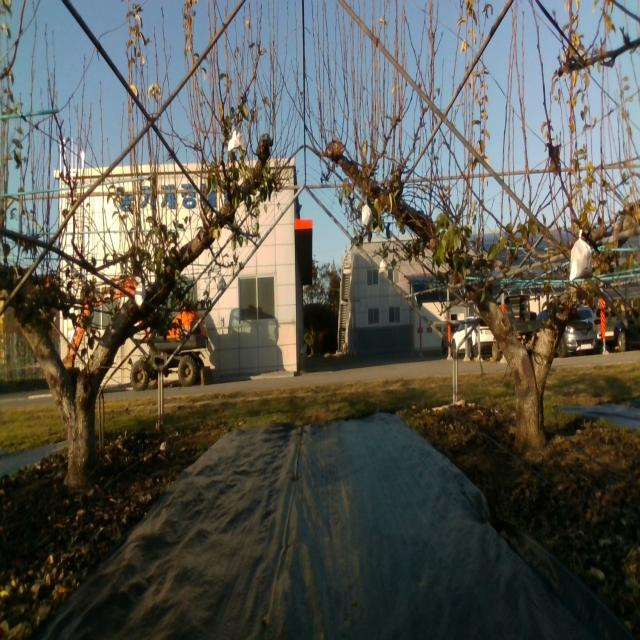pearbags: (568, 228, 594, 280), (228, 126, 246, 152), (134, 278, 147, 306), (361, 204, 373, 228), (216, 273, 227, 292)
